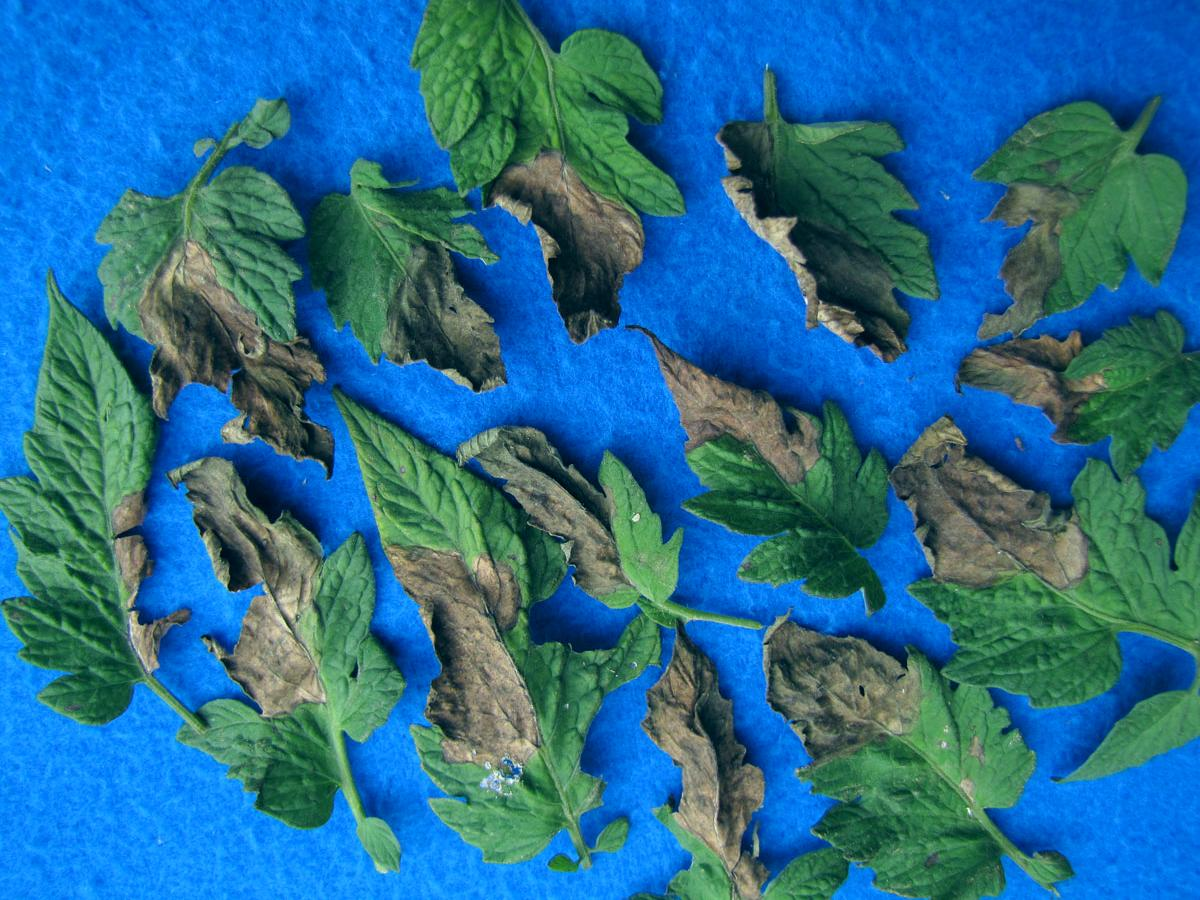Tomato leaf late blight: (350, 409, 592, 862), (398, 1, 681, 337), (95, 104, 345, 476), (174, 449, 397, 864), (760, 623, 1063, 893), (4, 294, 182, 742), (703, 90, 944, 371), (652, 361, 903, 604), (277, 173, 540, 398), (453, 417, 725, 621), (976, 79, 1185, 343), (949, 323, 1200, 453)
